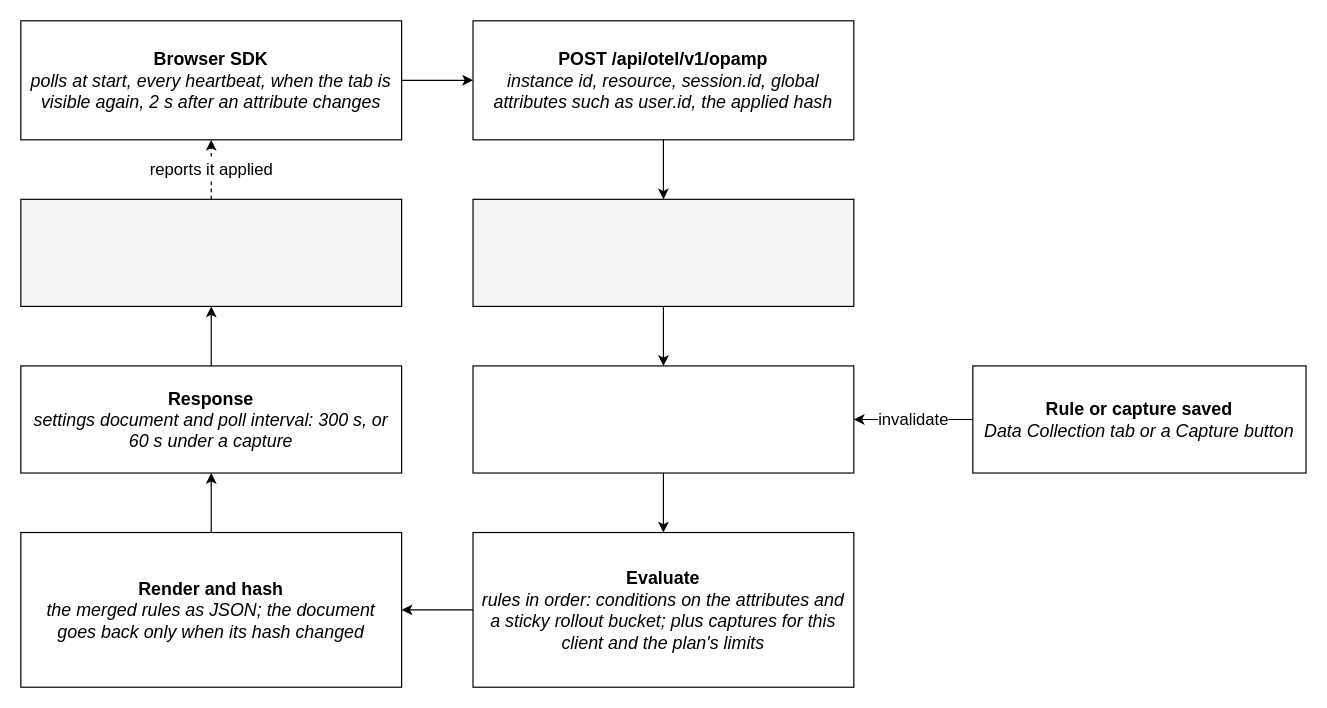
This 1327x708 diagram has some shape labels left out. Each missing label, with the centre of its shape:
OpAMP handler project from the token; 64 KB cap: the point at 663,252
Rules cache the project's compiled rules and active captures: the point at 663,419
SDK applies it defaults, rules, ceilings; kept for the next page: the point at 211,252
